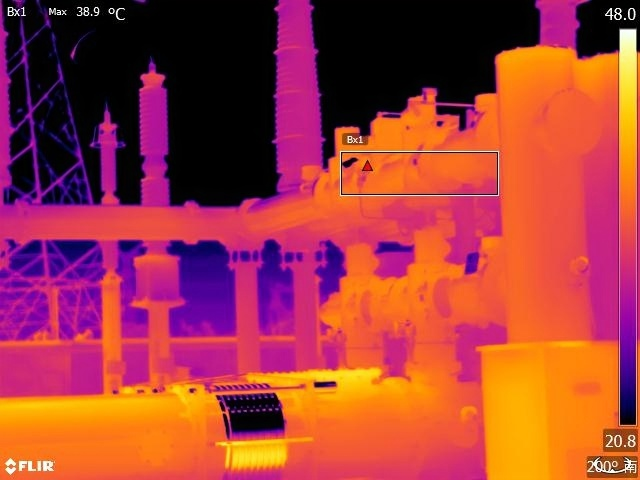lightning arrester: (89, 111, 126, 275)
potential transformer: (131, 55, 187, 320)
tube: (264, 1, 328, 190)
